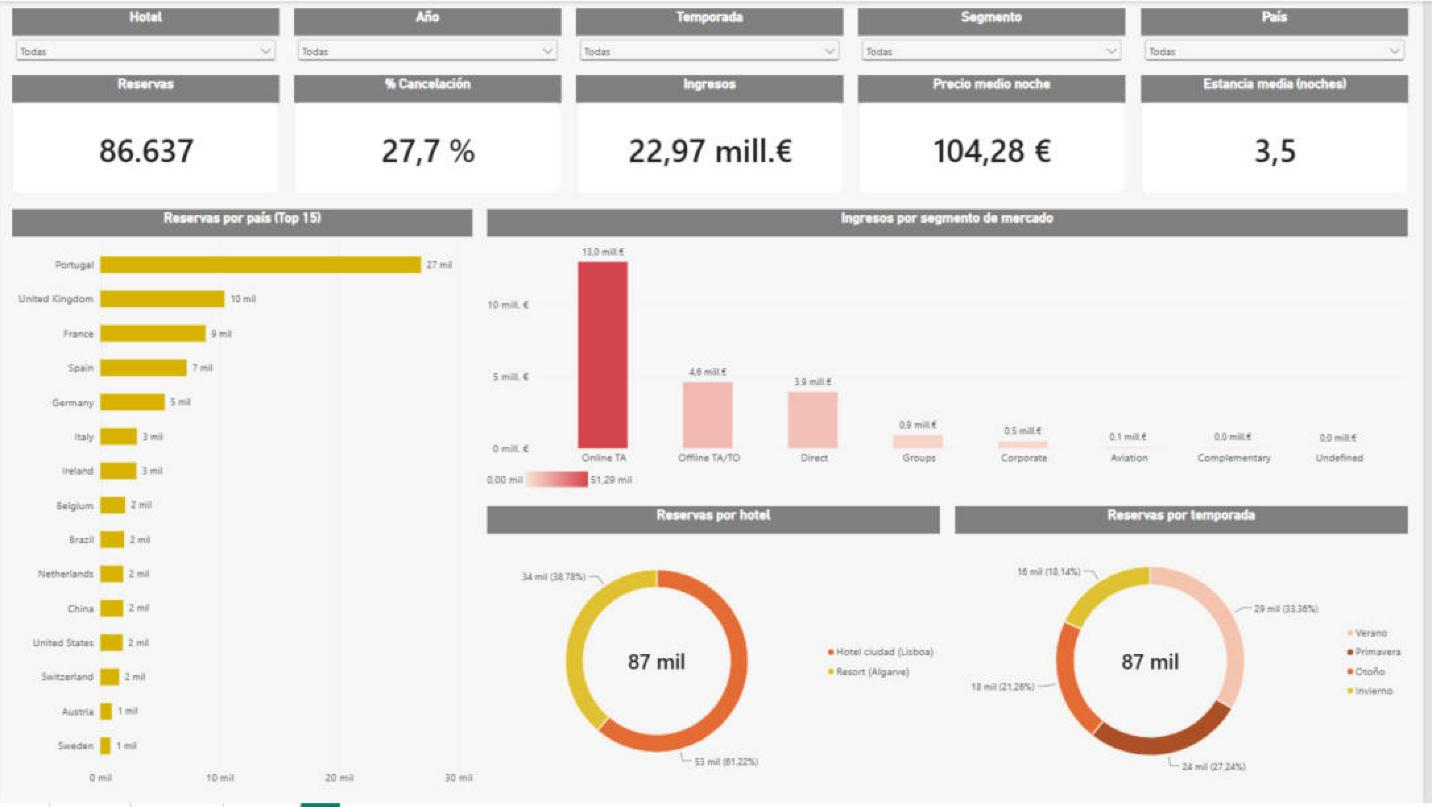

Layout of this report page (visuals, bound fields, positions):
{"tool":"powerbi","page":{"name":"Dashboard","canvas":[1920,1080],"ordinal":0},"visuals":[{"type":"cardVisual","title":"Reservas","fields":{"Data":["_Medidas.Reservas (texto)"]},"box":[20,100,360,160],"z":0},{"type":"cardVisual","title":"% Cancelación","fields":{"Data":["_Medidas.% Cancelación"]},"box":[400,100,360,160],"z":1000},{"type":"cardVisual","title":"Ingresos","fields":{"Data":["_Medidas.Ingresos"]},"box":[780,100,360,160],"z":2000},{"type":"cardVisual","title":"Precio medio noche","fields":{"Data":["_Medidas.Precio medio noche"]},"box":[1160,100,360,160],"z":3000},{"type":"cardVisual","title":"Estancia media (noches)","fields":{"Data":["_Medidas.Estancia media"]},"box":[1540,100,360,160],"z":4000},{"type":"clusteredBarChart","title":"Reservas por país (Top 15)","fields":{"Category":["Paises.pais"],"Y":["_Medidas.Reservas"]},"box":[20,280,620,780],"z":5000},{"type":"clusteredColumnChart","title":"Ingresos por segmento de mercado","fields":{"Category":["Reservas.segmento_mercado"],"Y":["_Medidas.Ingresos"]},"box":[660,280,1240,380],"z":6000},{"type":"donutChart","title":"Reservas por hotel","fields":{"Category":["Reservas.hotel"],"Y":["_Medidas.Reservas"]},"box":[660,680,610,380],"z":7000},{"type":"donutChart","title":"Reservas por temporada","fields":{"Category":["Reservas.temporada"],"Y":["_Medidas.Reservas"]},"box":[1290,680,610,380],"z":8000},{"type":"slicer","title":"Hotel","fields":{"Values":["Hoteles.hotel"]},"box":[20,10,360,80],"z":9000},{"type":"slicer","title":"Año","fields":{"Values":["Calendario.Año"]},"box":[400,10,360,80],"z":10000},{"type":"slicer","title":"País","fields":{"Values":["Paises.pais"]},"box":[1540,10,360,80],"z":11000},{"type":"slicer","title":"Temporada","fields":{"Values":["Reservas.temporada"]},"box":[780,10,360,80],"z":12000},{"type":"slicer","title":"Segmento","fields":{"Values":["Reservas.segmento_mercado"]},"box":[1160,10,360,80],"z":13000}]}

Visuals, with their boxes in screenshot pixels (x1, y1, x2, y2), scaled from the page's 1920x1080 canvas onto the 1432x807 screenshot:
"Reservas" cardVisual: bbox(15, 75, 283, 194)
"% Cancelación" cardVisual: bbox(298, 75, 567, 194)
"Ingresos" cardVisual: bbox(582, 75, 850, 194)
"Precio medio noche" cardVisual: bbox(865, 75, 1134, 194)
"Estancia media (noches)" cardVisual: bbox(1149, 75, 1417, 194)
"Reservas por país (Top 15)" clusteredBarChart: bbox(15, 209, 477, 792)
"Ingresos por segmento de mercado" clusteredColumnChart: bbox(492, 209, 1417, 493)
"Reservas por hotel" donutChart: bbox(492, 508, 947, 792)
"Reservas por temporada" donutChart: bbox(962, 508, 1417, 792)
"Hotel" slicer: bbox(15, 7, 283, 67)
"Año" slicer: bbox(298, 7, 567, 67)
"País" slicer: bbox(1149, 7, 1417, 67)
"Temporada" slicer: bbox(582, 7, 850, 67)
"Segmento" slicer: bbox(865, 7, 1134, 67)
